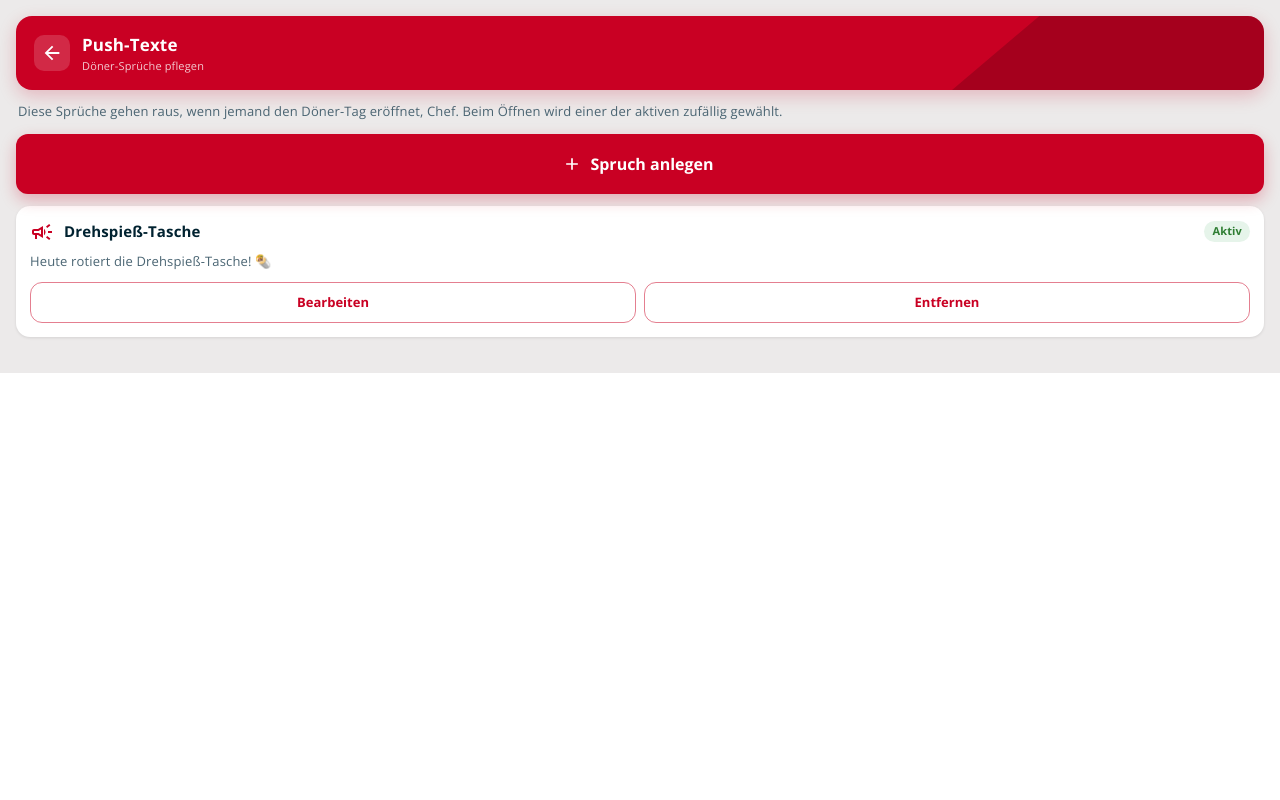
Test: AdminNotificationTemplatesPage › blockiert das Speichern mit leerem Text
Check: the text "Drehspieß-Tasche" is shown, box 64,221 -> 201,241
Click the button "Bearbeiten": (333, 303) 30,282 -> 636,323
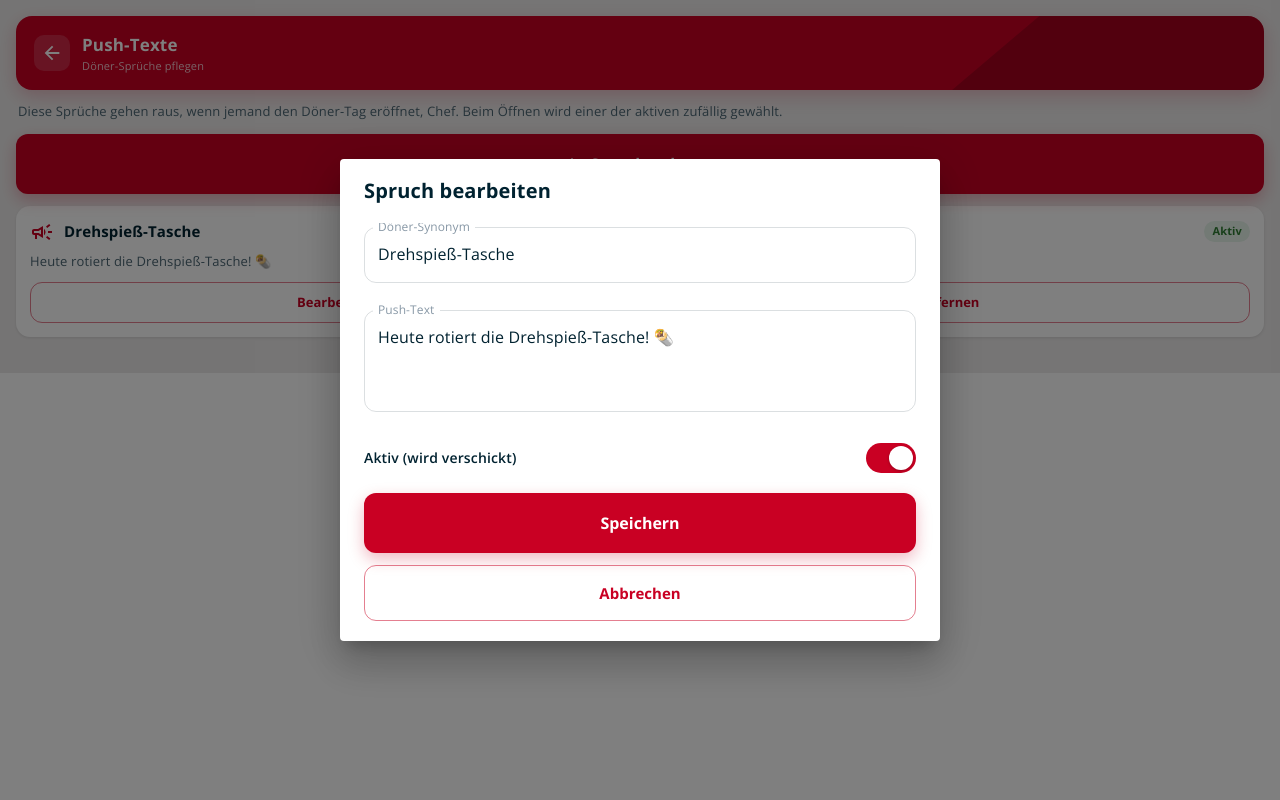
Clear the text box labelled "Push-Text": (640, 361) 378,326 -> 902,395
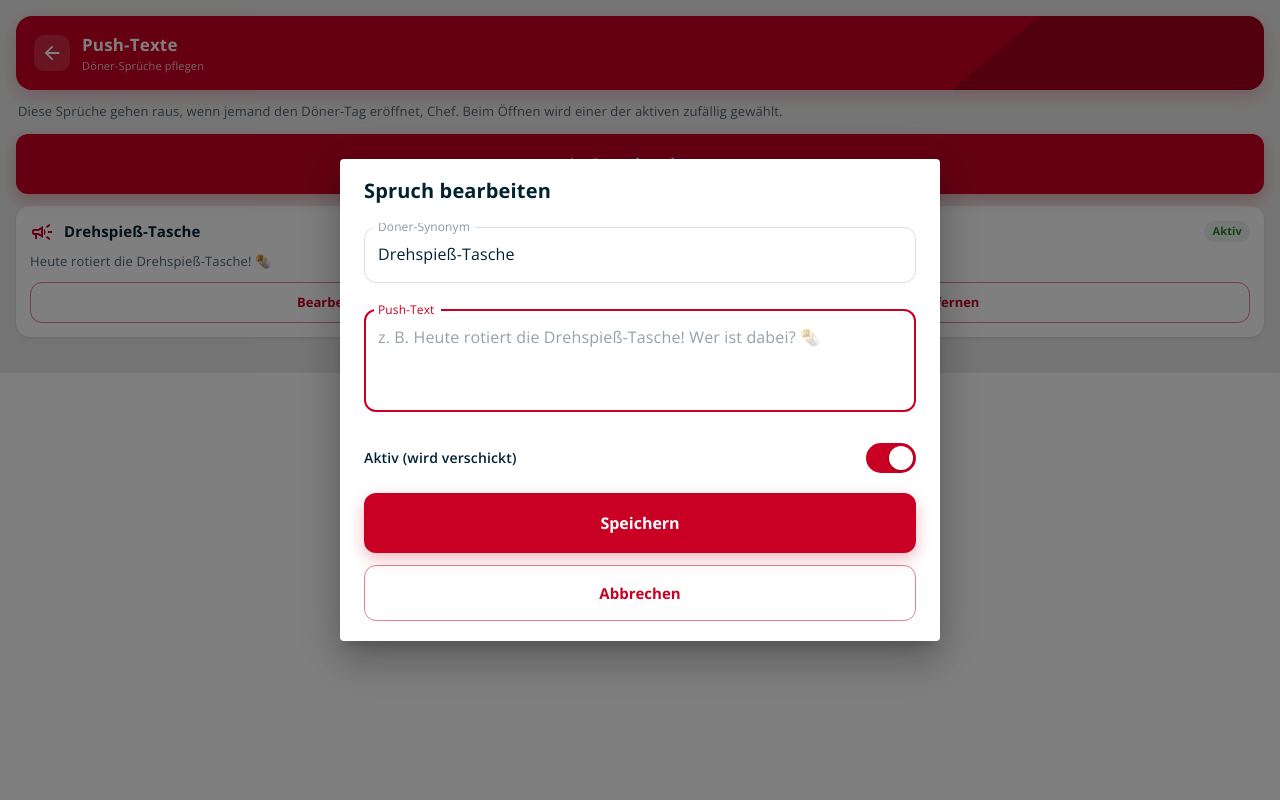
Click the button "Speichern": (640, 523) 364,493 -> 916,553
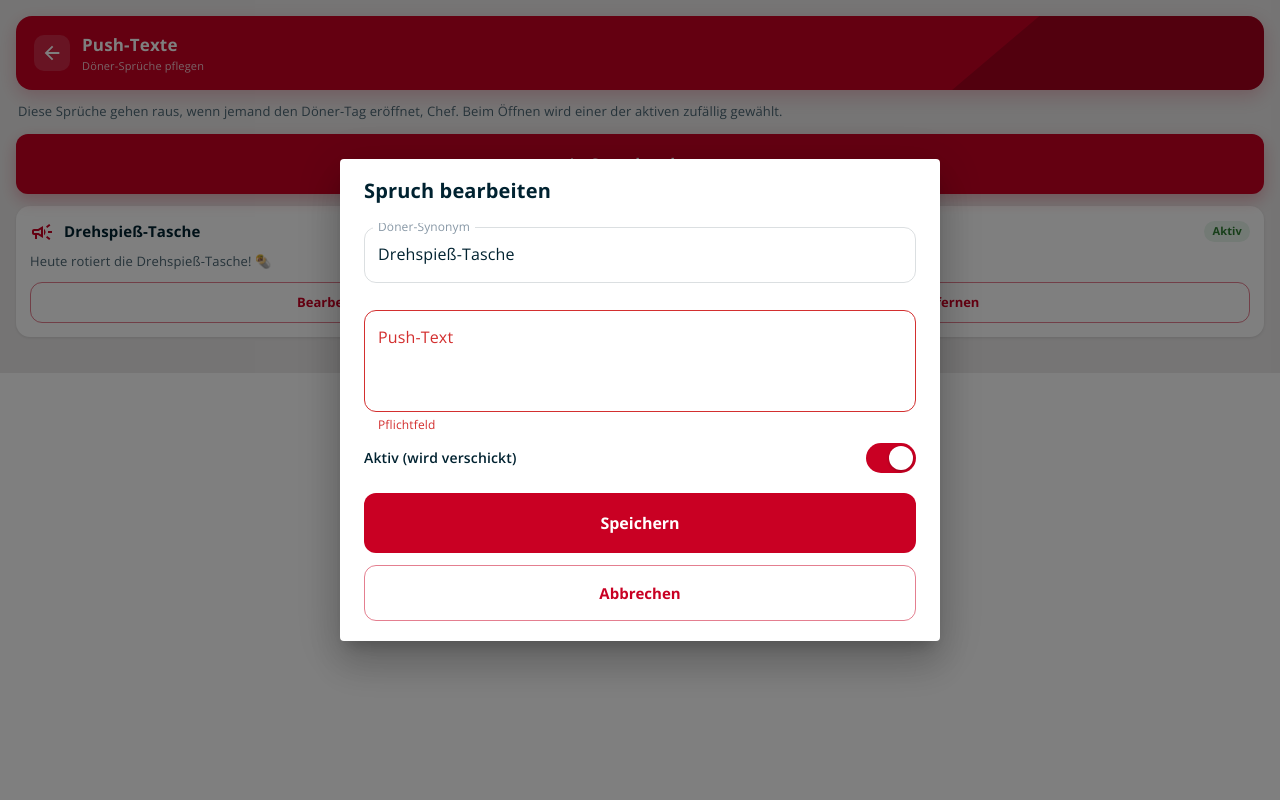
Check: the text "Pflichtfeld" is shown, box 378,416 -> 436,433
